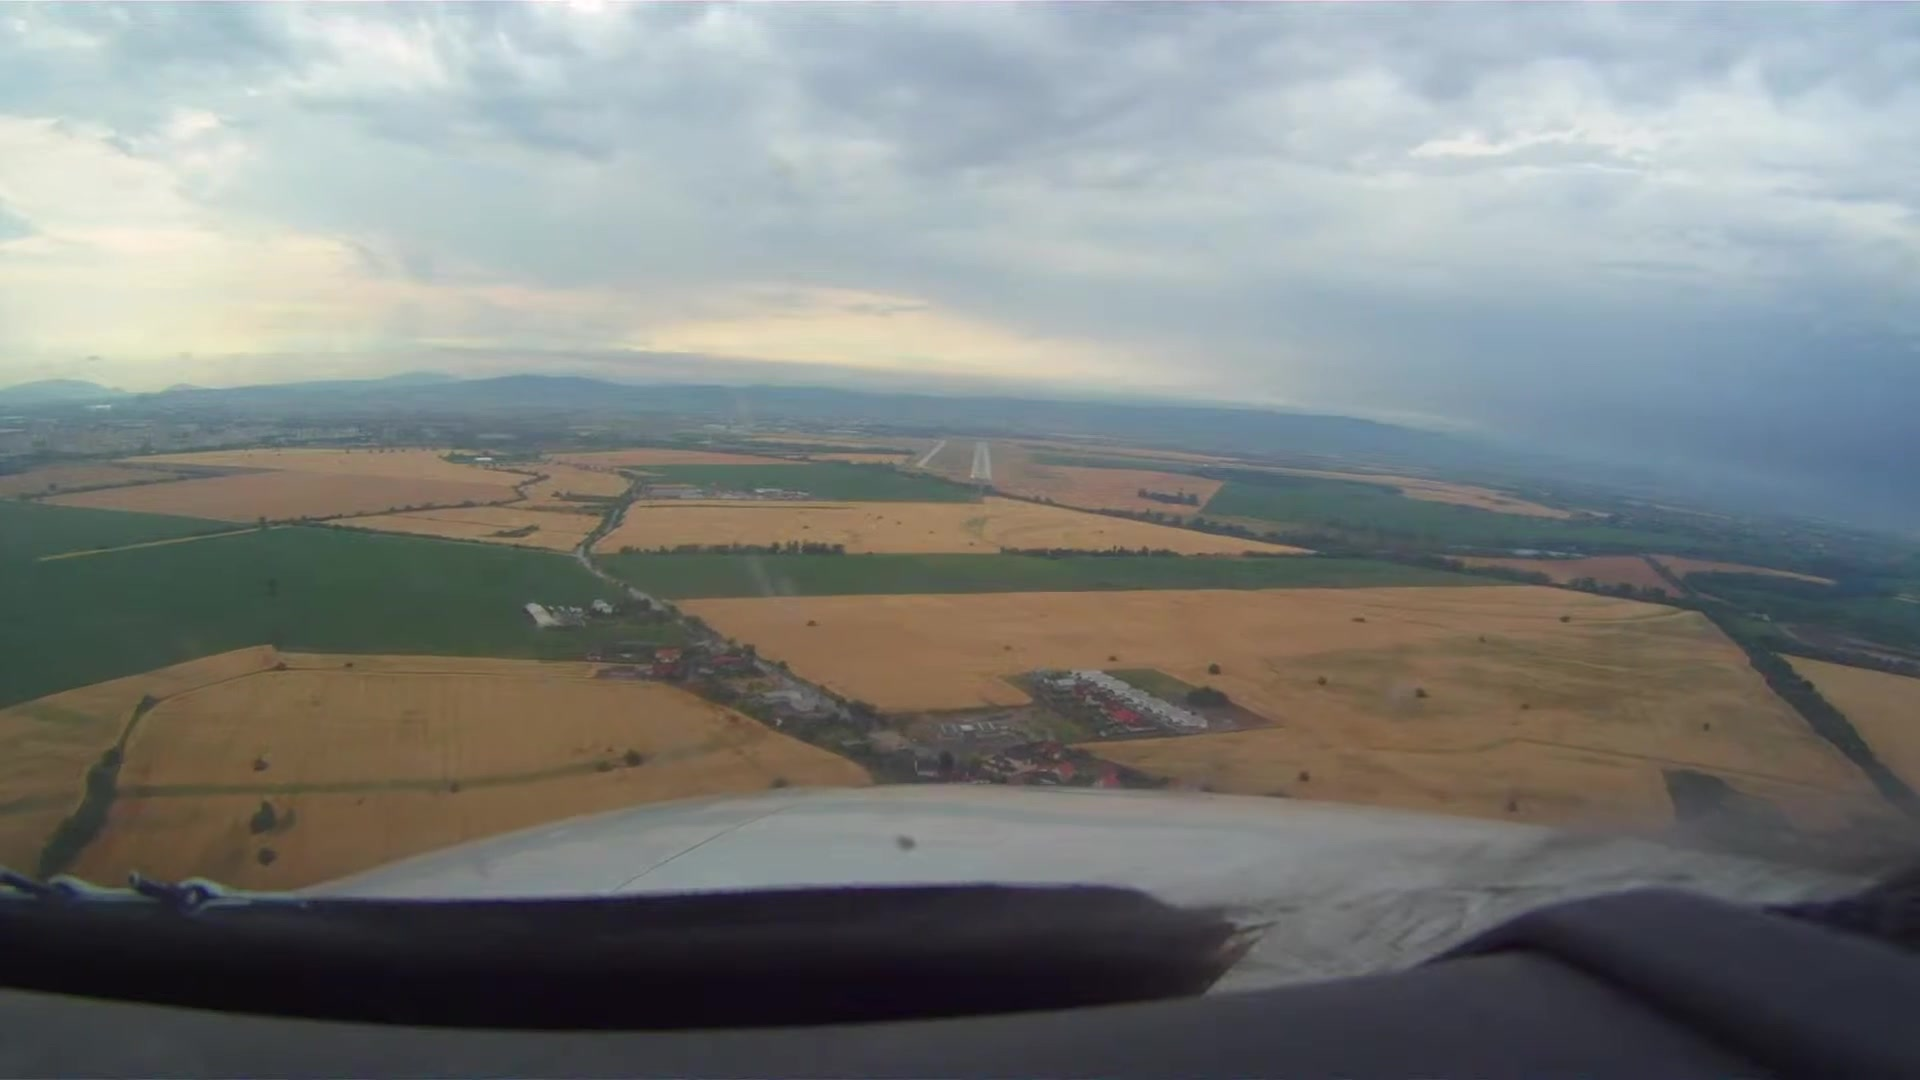runway: (967, 440, 994, 481)
